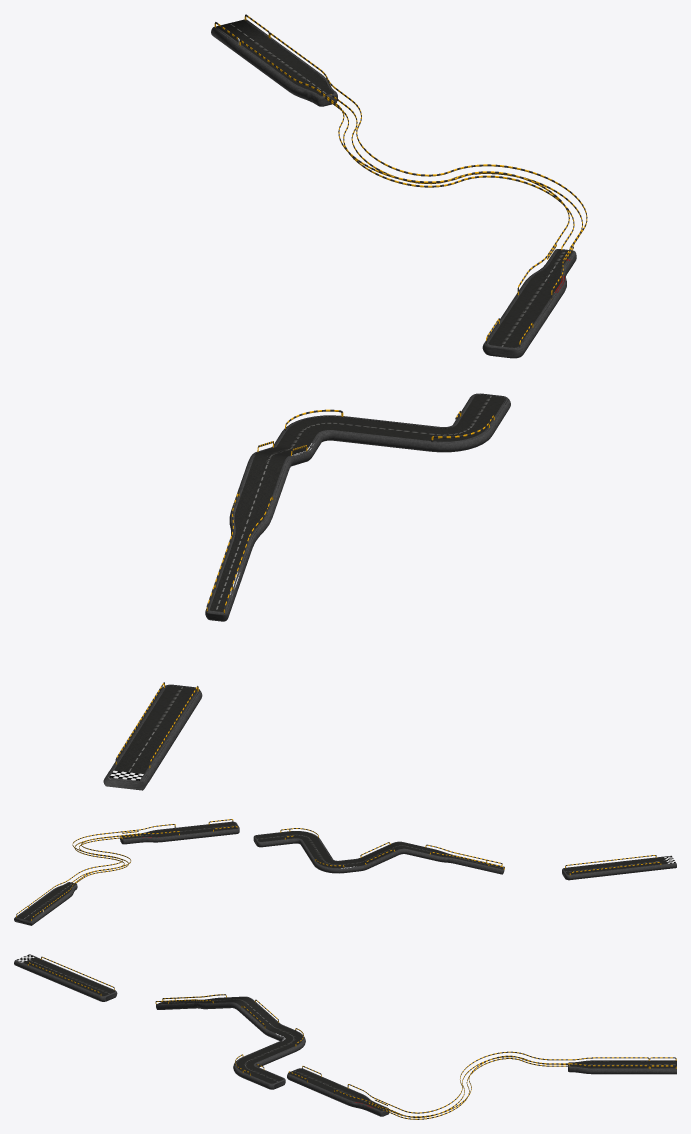
Rendered from map7.fbx.
3 views of the same model, one above another, from view 1: azimuth 30°, elevation 25°; view 2: azimuth 150°, elevation 25°; view 3: azimuth 270°, elevation 25° (orthographic). The views are drawn at different scales.
Parts seen in each view (by area): view 1: Terrain_Flat_Bar_8_1, Terrain_Flat_2, Terrain_Flat_BarStart_1, Terrain_Flat_BarStart_2__1_, Terrain_Flat_BarEnd_2, Terrain_Flat_BarStart_1_1, Terrain_Flat_BarStart_2, Terrain_Right_Flat_Bar_2__1_; view 2: Terrain_Flat_Bar_8_1, Terrain_Flat_BarStart_1_1, Terrain_Flat_BarEnd_2, Terrain_Flat_BarStart_1, Terrain_Flat_2, Terrain_CurveUp_Bar_2, Terrain_Flat_BarStart_2, Terrain_Flat_BarStart_2__1_, Dummy_Start_1, Terrain_Left_Flat_Bar_2__1_, Terrain_Right_Flat_Bar_2__1_, TerrainLink_4 (+3 smaller); view 3: Terrain_Flat_Bar_8_1, Terrain_Flat_BarStart_1, Terrain_Flat_2, Terrain_Flat_BarStart_1_1, Terrain_Flat_BarEnd_2, Terrain_CurveUp_Bar_2, Terrain_Flat_BarStart_2, Dummy_Start_1, Terrain_Flat_BarStart_2__1_, Terrain_Left_Flat_Bar_2__1_, TerrainLink_2, Terrain_Right_Flat_Bar_2__1_ (+1 smaller).
Boxes of the visible parts, x1,y1,x2,y2 form: Terrain_Flat_Bar_8_1: (484, 280, 565, 352); Terrain_Flat_2: (332, 416, 441, 451); Terrain_Flat_BarStart_1: (236, 37, 324, 90); Terrain_Flat_BarStart_2__1_: (231, 462, 288, 518); Terrain_Flat_BarEnd_2: (108, 729, 175, 783); Terrain_Flat_BarStart_1_1: (134, 687, 201, 741); Terrain_Flat_BarStart_2: (451, 396, 510, 435); Terrain_Right_Flat_Bar_2__1_: (430, 424, 493, 452); Terrain_Flat_Bar_8_1: (158, 821, 236, 841); Terrain_Flat_BarStart_1_1: (565, 862, 619, 879); Terrain_Flat_BarEnd_2: (614, 856, 668, 874); Terrain_Flat_BarStart_1: (27, 889, 70, 915); Terrain_Flat_2: (300, 838, 333, 864); Terrain_CurveUp_Bar_2: (362, 843, 398, 868); Terrain_Flat_BarStart_2: (257, 831, 294, 847); Terrain_Flat_BarStart_2__1_: (403, 842, 438, 861); Dummy_Start_1: (14, 908, 45, 925); Terrain_Left_Flat_Bar_2__1_: (313, 859, 344, 873); Terrain_Right_Flat_Bar_2__1_: (290, 831, 319, 843); TerrainLink_4: (139, 830, 162, 842); Terrain_Flat_Bar_8_1: (288, 1069, 362, 1104); Terrain_Flat_BarStart_1: (593, 1060, 649, 1074); Terrain_Flat_2: (243, 1040, 297, 1067); Terrain_Flat_BarStart_1_1: (60, 973, 114, 1000); Terrain_Flat_BarEnd_2: (20, 957, 75, 984); Terrain_CurveUp_Bar_2: (237, 1000, 278, 1031); Terrain_Flat_BarStart_2: (241, 1066, 283, 1088); Dummy_Start_1: (649, 1060, 676, 1074); Terrain_Flat_BarStart_2__1_: (205, 996, 245, 1009); Terrain_Left_Flat_Bar_2__1_: (280, 1031, 305, 1050); TerrainLink_2: (570, 1060, 593, 1074); Terrain_Right_Flat_Bar_2__1_: (233, 1057, 258, 1077).
Bounding box in the file's own units: 11388 × 2110 × 14300.
Materials: 10 (7 with a texture image).
